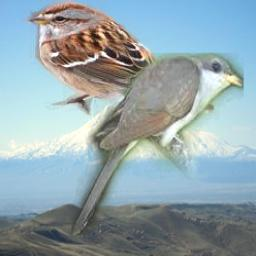Cuckoo: (72, 53, 245, 235)
Sparrow: (22, 0, 214, 115)
